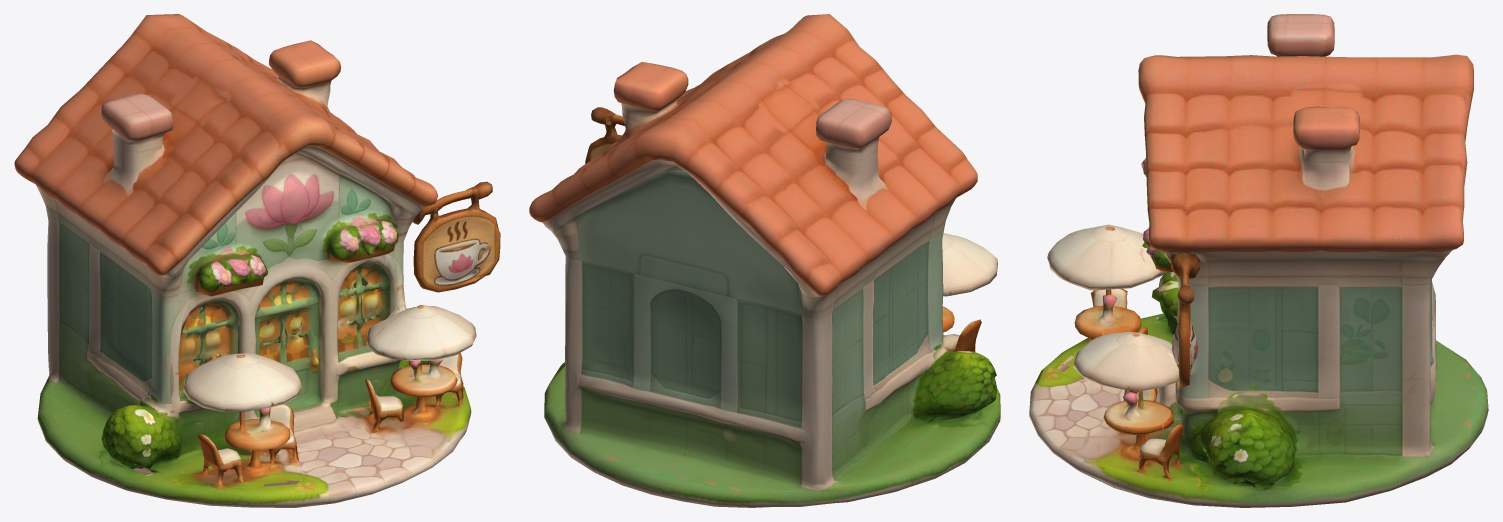
The model's file is 07-lotus-cafe.glb.
The picture shows the model from 3 angles, left to right: view 1: azimuth 30°, elevation 25°; view 2: azimuth 150°, elevation 25°; view 3: azimuth 270°, elevation 25°; orthographic projection. The views are drawn at different scales.
Parts seen in each view (by area): view 1: tripo_node_3fb8c611-7a04-437e-9746-3fe265ff8782; view 2: tripo_node_3fb8c611-7a04-437e-9746-3fe265ff8782; view 3: tripo_node_3fb8c611-7a04-437e-9746-3fe265ff8782.
Boxes of the visible parts, x1,y1,x2,y2 form: tripo_node_3fb8c611-7a04-437e-9746-3fe265ff8782: (14, 14, 500, 507); tripo_node_3fb8c611-7a04-437e-9746-3fe265ff8782: (529, 14, 1000, 507); tripo_node_3fb8c611-7a04-437e-9746-3fe265ff8782: (1029, 14, 1488, 507).
Bounding box in the file's own units: 0.9766 × 0.7912 × 0.9202.
Materials: 1 (1 with a texture image).
